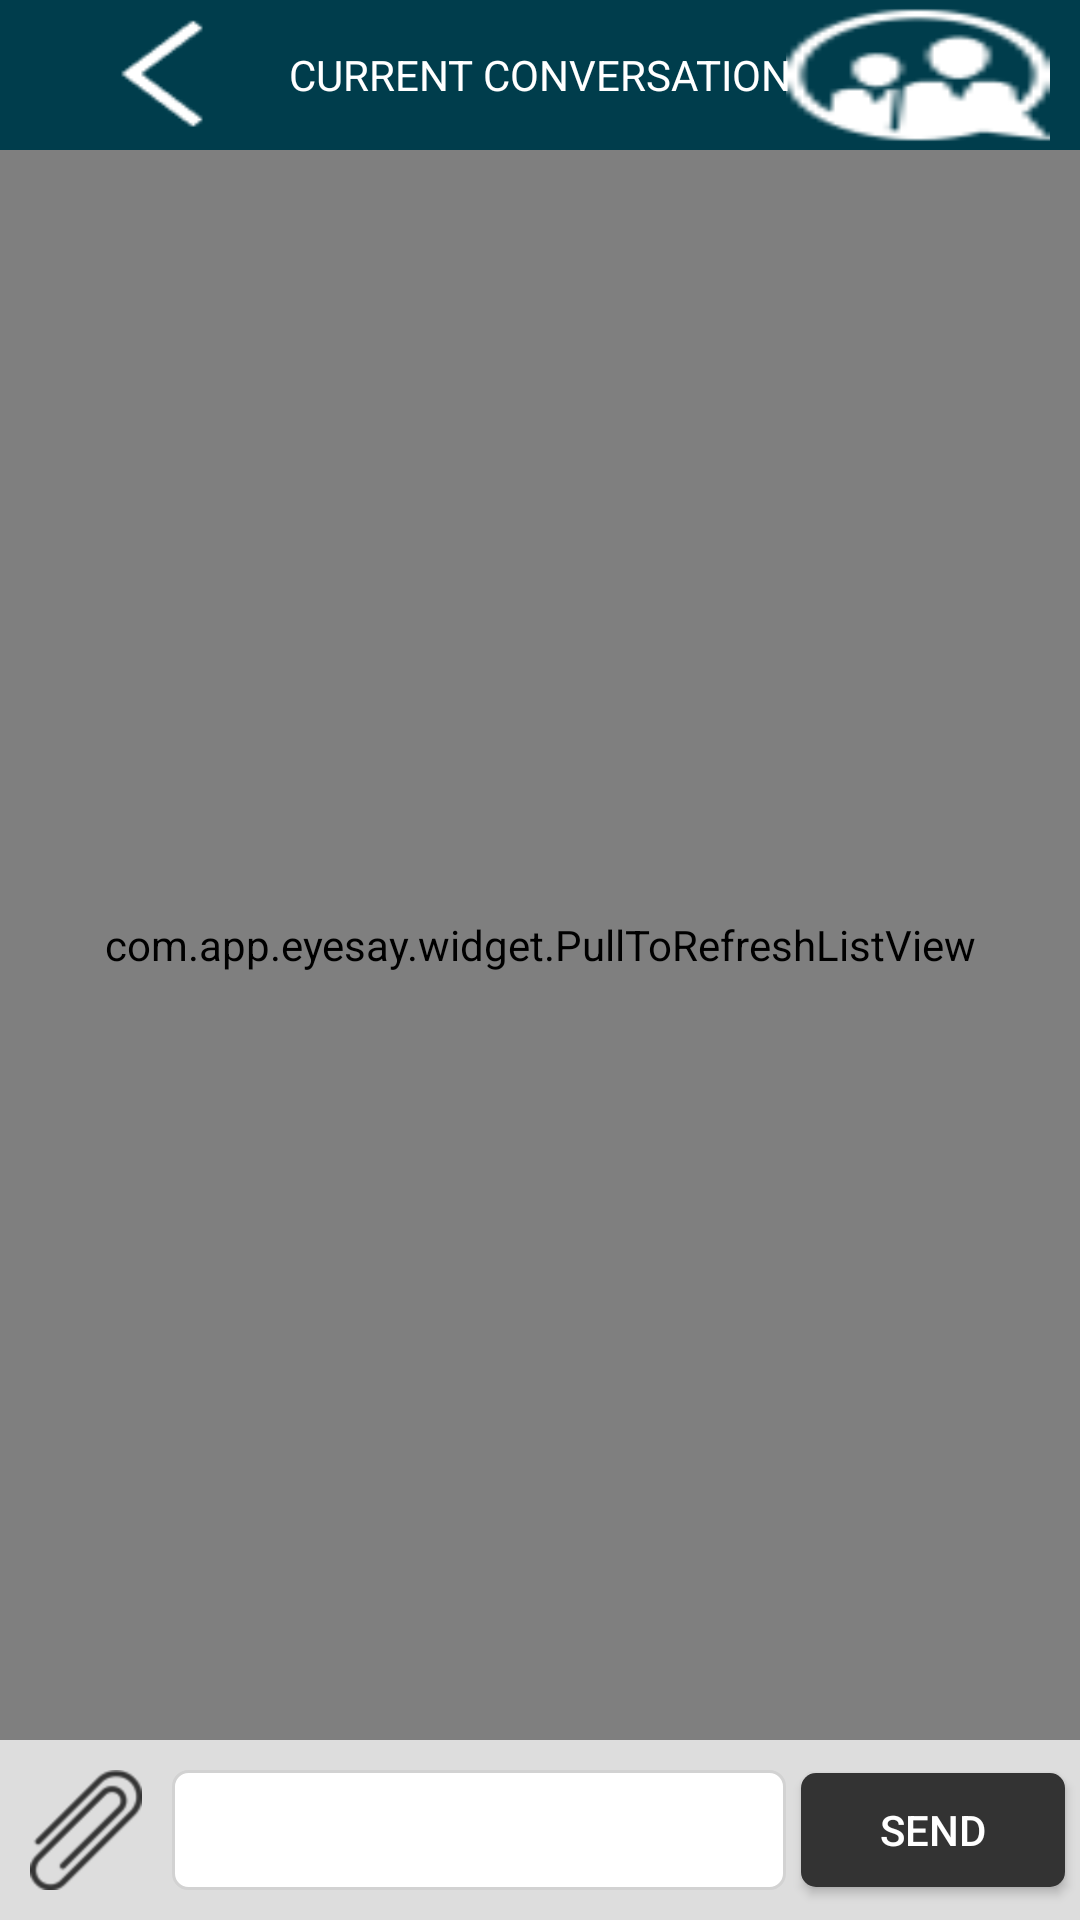

Point at icon controls on the screen. Image size 1080w x 1920h, points as (x=x, y=y).
attachment: (x=86, y=1830)
back arrow: (x=162, y=73)
